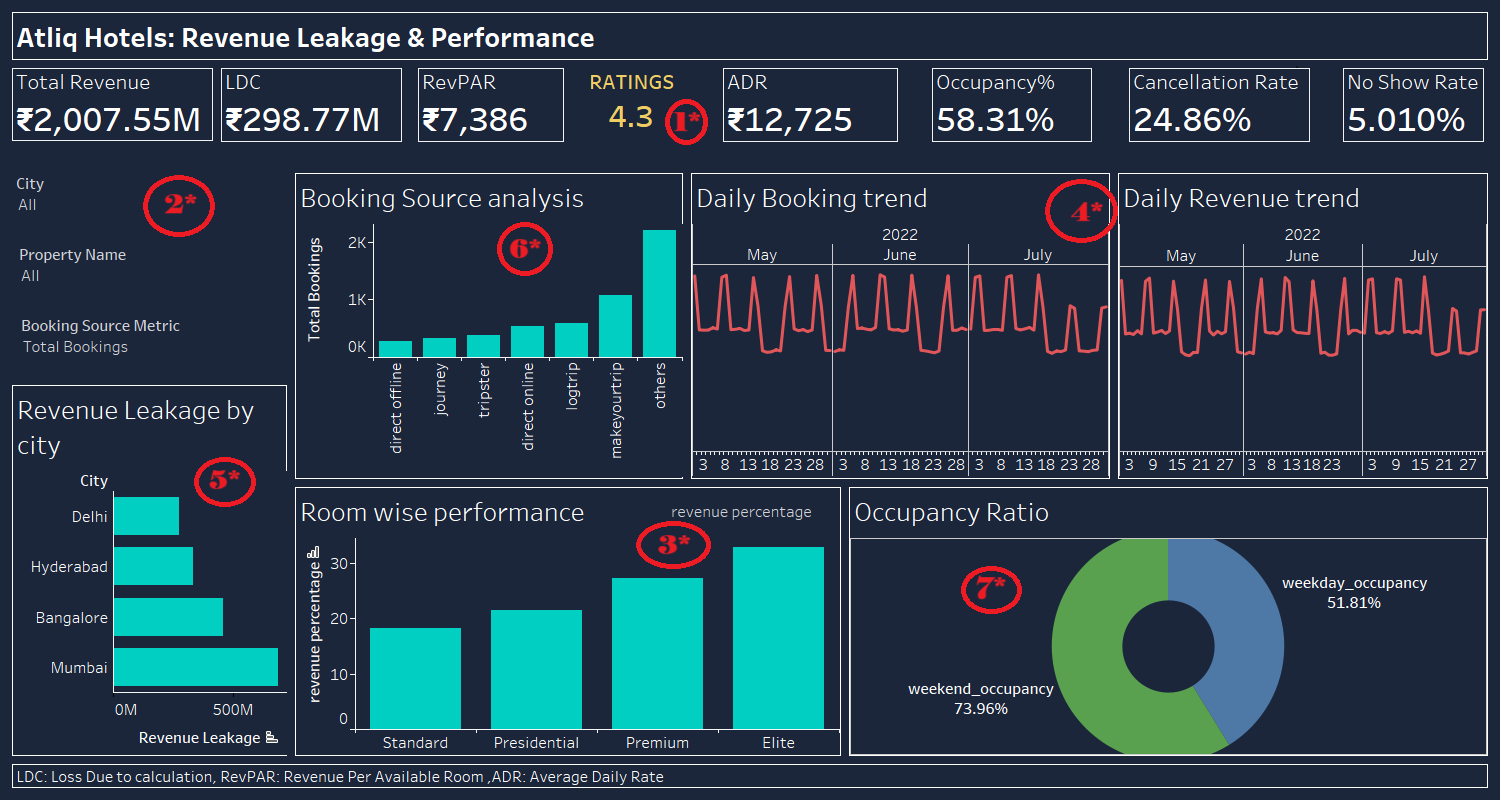

Layout of this report page (visuals, bound fields, positions):
{"tool":"tableau","page":{"name":"Dashboard 1 (2)","canvas":[1500,800],"ordinal":0},"visuals":[{"type":"title","box":[8,8,1484,56]},{"type":"worksheet","title":"Total Revenue","mark":"Automatic","box":[8,64,209,81]},{"type":"worksheet","title":"LDC","mark":"Automatic","box":[217,64,197,82]},{"type":"worksheet","title":"Revpar","mark":"Automatic","box":[414,64,167,82]},{"type":"worksheet","title":"Rating","mark":"Automatic","box":[581,64,138,77]},{"type":"worksheet","title":"Adr","mark":"Automatic","box":[719,64,209,82]},{"type":"worksheet","title":"Occupancy %","mark":"Automatic","box":[928,64,197,82]},{"type":"worksheet","title":"Cancillation rate","mark":"Automatic","box":[1125,64,214.3,82]},{"type":"worksheet","title":"No Show Rate","mark":"Automatic","box":[1339.3,64,152.7,82]},{"type":"worksheet","title":"Booking Source analysis","mark":"Automatic","rows":["Calculation_21392127470497808"],"cols":["booking_platform (booking_platform_data.csv)"],"box":[291,169.4,396,313.2]},{"type":"worksheet","title":"Daily Booking trend","mark":"Automatic","rows":["total_bookings"],"cols":["check_in_date (daily_booking_trend.csv)","check_in_date (daily_booking_trend.csv)","check_in_date (daily_booking_trend.csv)"],"box":[687,169.4,427,313.2]},{"type":"worksheet","title":"Daily Revenue trend","mark":"Automatic","rows":["daily_revenue"],"cols":["check_in_date (daily_revenue_trend.csv)","check_in_date (daily_revenue_trend.csv)","check_in_date (daily_revenue_trend.csv)"],"box":[1114,169.4,378,313.2]},{"type":"filter","title":"Total Revenue","param":"[federated.1bwgkvj0o043141128l9415vt62y].[none:city:nk]","box":[16,172,168,62]},{"type":"filter","title":"Total Revenue","param":"[federated.1bwgkvj0o043141128l9415vt62y].[none:property_name:nk]","box":[19,243,161,71]},{"type":"parameter","param":"[Parameters].[Parameter 2]","box":[21,314,163,48]},{"type":"worksheet","title":"Revenue Leakage by city","mark":"Automatic","rows":["city"],"cols":["revenue_leakage"],"box":[8,381,283,379]},{"type":"worksheet","title":"Room wise performance","mark":"Bar","rows":["Calculation_21392127413514255"],"cols":["room_type"],"box":[291,482.6,554,277.4]},{"type":"worksheet","title":"Occupancy Ratio","mark":"Pie","cols":["Calculation_21392127508181011","Calculation_21392127508226069"],"box":[845,482.6,647,277.4]},{"type":"parameter","param":"[Parameters].[Parameter 1]","box":[669,501,160,48]},{"type":"text","box":[8,760,1484,32]}]}

Visuals, with their boxes in screenshot pixels (x1, y1, x2, y2), scaled from the page's 1500x800 canvas onto the 1500x800 screenshot:
title: Rect(8, 8, 1492, 64)
"Total Revenue" worksheet: Rect(8, 64, 217, 145)
"LDC" worksheet: Rect(217, 64, 414, 146)
"Revpar" worksheet: Rect(414, 64, 581, 146)
"Rating" worksheet: Rect(581, 64, 719, 141)
"Adr" worksheet: Rect(719, 64, 928, 146)
"Occupancy %" worksheet: Rect(928, 64, 1125, 146)
"Cancillation rate" worksheet: Rect(1125, 64, 1339, 146)
"No Show Rate" worksheet: Rect(1339, 64, 1492, 146)
"Booking Source analysis" worksheet: Rect(291, 169, 687, 483)
"Daily Booking trend" worksheet: Rect(687, 169, 1114, 483)
"Daily Revenue trend" worksheet: Rect(1114, 169, 1492, 483)
"Total Revenue" filter: Rect(16, 172, 184, 234)
"Total Revenue" filter: Rect(19, 243, 180, 314)
parameter: Rect(21, 314, 184, 362)
"Revenue Leakage by city" worksheet: Rect(8, 381, 291, 760)
"Room wise performance" worksheet (Bar marks): Rect(291, 483, 845, 760)
"Occupancy Ratio" worksheet (Pie marks): Rect(845, 483, 1492, 760)
parameter: Rect(669, 501, 829, 549)
text: Rect(8, 760, 1492, 792)
